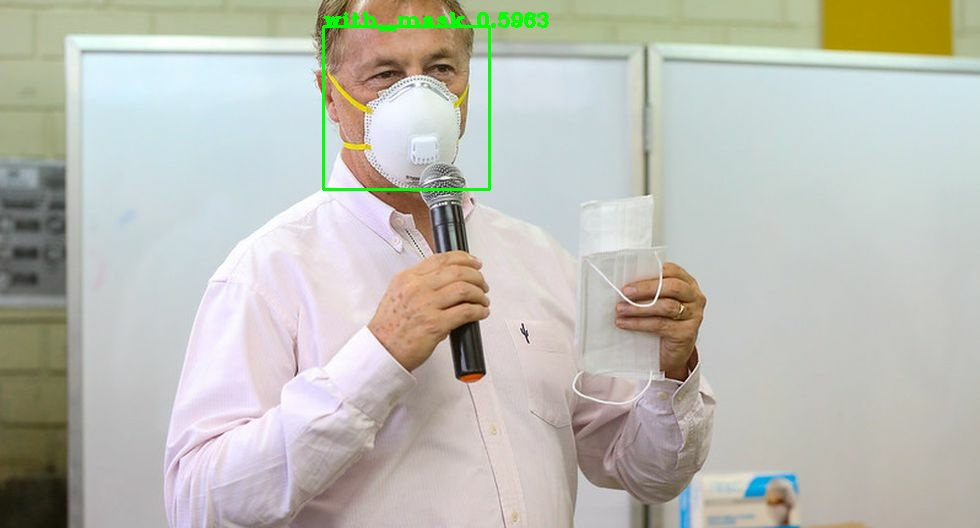with_mask: (320, 2, 481, 202)
